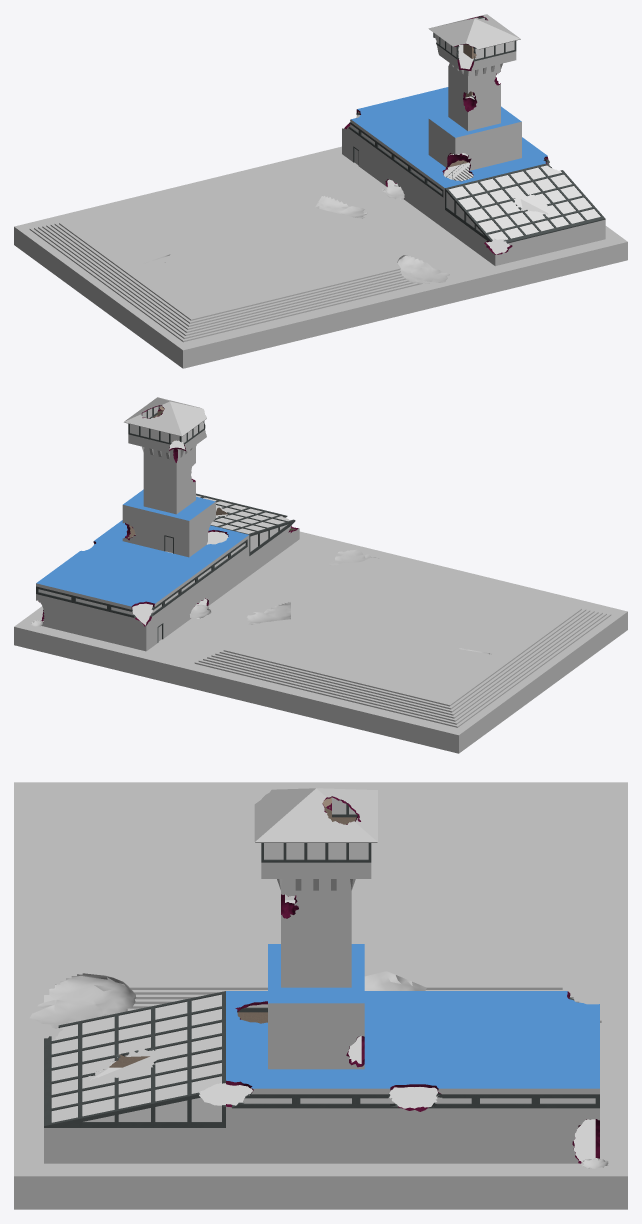
File: Broadcast_station_01.fbx
3 views of the same model, one above another, from view 1: azimuth 30°, elevation 25°; view 2: azimuth 150°, elevation 25°; view 3: azimuth 270°, elevation 25° (orthographic). The views are drawn at different scales.
Visible parts, largest first — view 1: broadcasting_stations_01_ground, broadcasting_stations_01_building, broadcasting_stations_01_atrium_glass, broadcasting_stations_01_atrium_frame, broadcasting_stations_01_roof, broadcasting_stations_01_circuit_frame, broadcasting_stations_01_tower_glass; view 2: broadcasting_stations_01_ground, broadcasting_stations_01_building, broadcasting_stations_01_roof, broadcasting_stations_01_atrium_glass, broadcasting_stations_01_atrium_frame, broadcasting_stations_01_circuit_frame, broadcasting_stations_01_tower_glass, broadcasting_stations_01_circuit_glass; view 3: broadcasting_stations_01_ground, broadcasting_stations_01_building, broadcasting_stations_01_atrium_glass, broadcasting_stations_01_atrium_frame, broadcasting_stations_01_roof, broadcasting_stations_01_circuit_frame, broadcasting_stations_01_tower_glass, broadcasting_stations_01_circuit_glass, broadcasting_stations_01_tower_frame.
Boxes of the visible parts, <box> form: broadcasting_stations_01_ground: <box>14,146,627,368</box>; broadcasting_stations_01_building: <box>342,44,605,265</box>; broadcasting_stations_01_atrium_glass: <box>446,165,600,240</box>; broadcasting_stations_01_atrium_frame: <box>445,163,605,243</box>; broadcasting_stations_01_roof: <box>428,14,520,49</box>; broadcasting_stations_01_circuit_frame: <box>348,112,551,197</box>; broadcasting_stations_01_tower_glass: <box>434,17,514,59</box>; broadcasting_stations_01_ground: <box>14,531,627,753</box>; broadcasting_stations_01_building: <box>36,406,299,651</box>; broadcasting_stations_01_roof: <box>124,397,206,436</box>; broadcasting_stations_01_atrium_glass: <box>196,495,291,551</box>; broadcasting_stations_01_atrium_frame: <box>196,493,295,555</box>; broadcasting_stations_01_circuit_frame: <box>36,539,247,617</box>; broadcasting_stations_01_tower_glass: <box>130,405,203,443</box>; broadcasting_stations_01_circuit_glass: <box>38,543,245,614</box>; broadcasting_stations_01_ground: <box>14,782,627,1209</box>; broadcasting_stations_01_building: <box>44,797,599,1163</box>; broadcasting_stations_01_atrium_glass: <box>51,994,221,1122</box>; broadcasting_stations_01_atrium_frame: <box>44,991,225,1127</box>; broadcasting_stations_01_roof: <box>254,788,377,842</box>; broadcasting_stations_01_circuit_frame: <box>232,997,599,1108</box>; broadcasting_stations_01_tower_glass: <box>264,797,368,859</box>; broadcasting_stations_01_circuit_glass: <box>243,1004,595,1103</box>; broadcasting_stations_01_tower_frame: <box>261,803,371,862</box>.
Bounding box in the file's own units: 6766 × 2878 × 4455.
